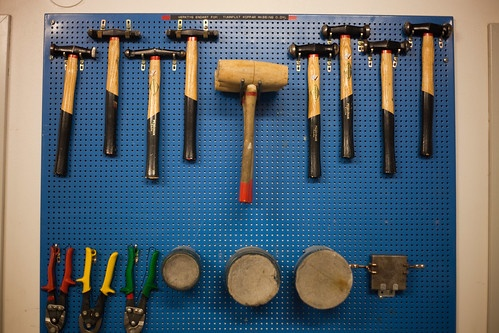hammer: (213, 52, 291, 200), (166, 24, 218, 160), (402, 16, 451, 159), (321, 22, 370, 158), (288, 40, 336, 178), (88, 27, 139, 156), (48, 41, 96, 177), (364, 38, 411, 174)
